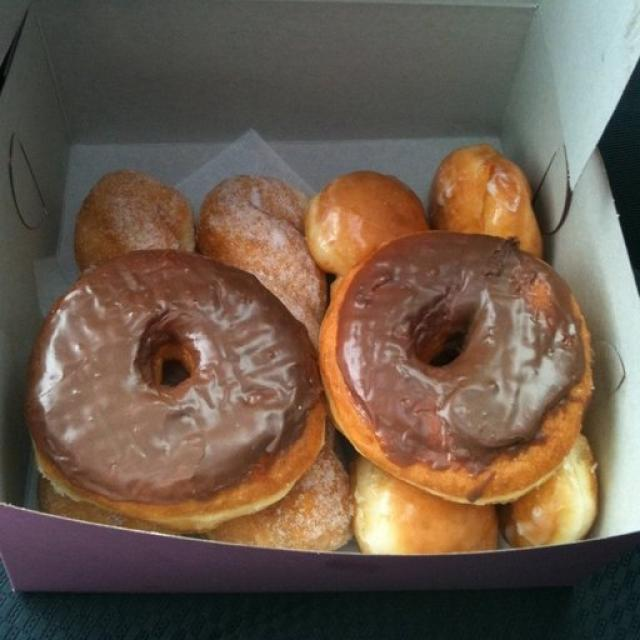Donuts: (25, 136, 603, 550)
